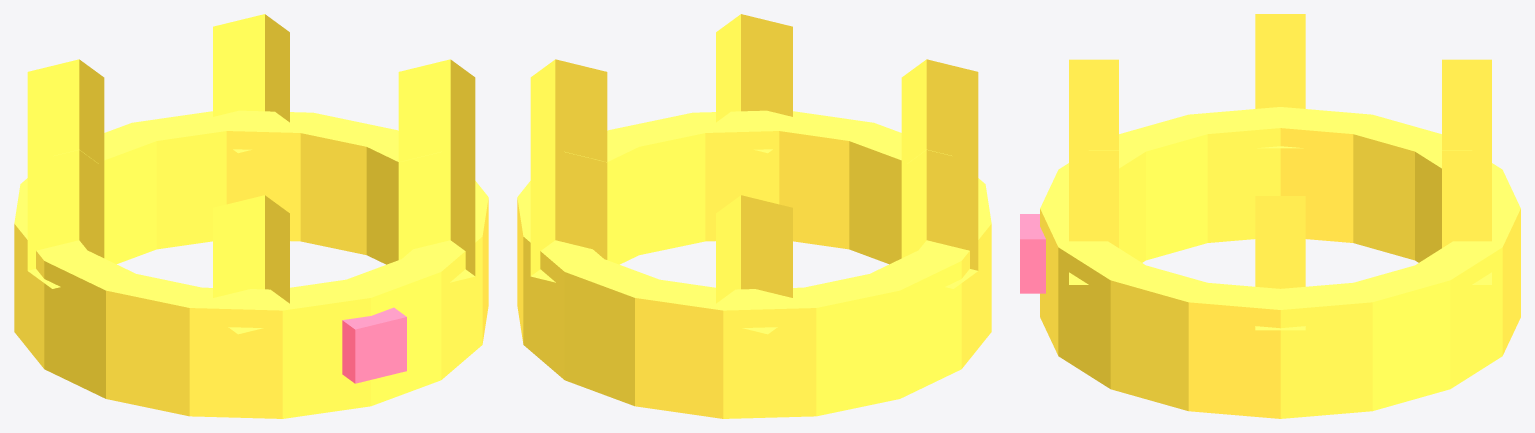
Rendered from crown_gold.glb.
The picture shows the model from 3 angles, left to right: view 1: azimuth 30°, elevation 25°; view 2: azimuth 150°, elevation 25°; view 3: azimuth 270°, elevation 25°; orthographic projection.
Parts seen in each view (by area): view 1: CrownBand, CrownGem; view 2: CrownBand; view 3: CrownBand, CrownGem.
Boxes of the visible parts, box(x1,y1,x2,y2) form: CrownBand: box(14, 14, 488, 418); CrownGem: box(342, 307, 406, 383); CrownBand: box(517, 14, 991, 418); CrownBand: box(1040, 14, 1520, 418); CrownGem: box(1020, 214, 1045, 293).
Bounding box in the file's own units: 0.49 × 0.22 × 0.5.
